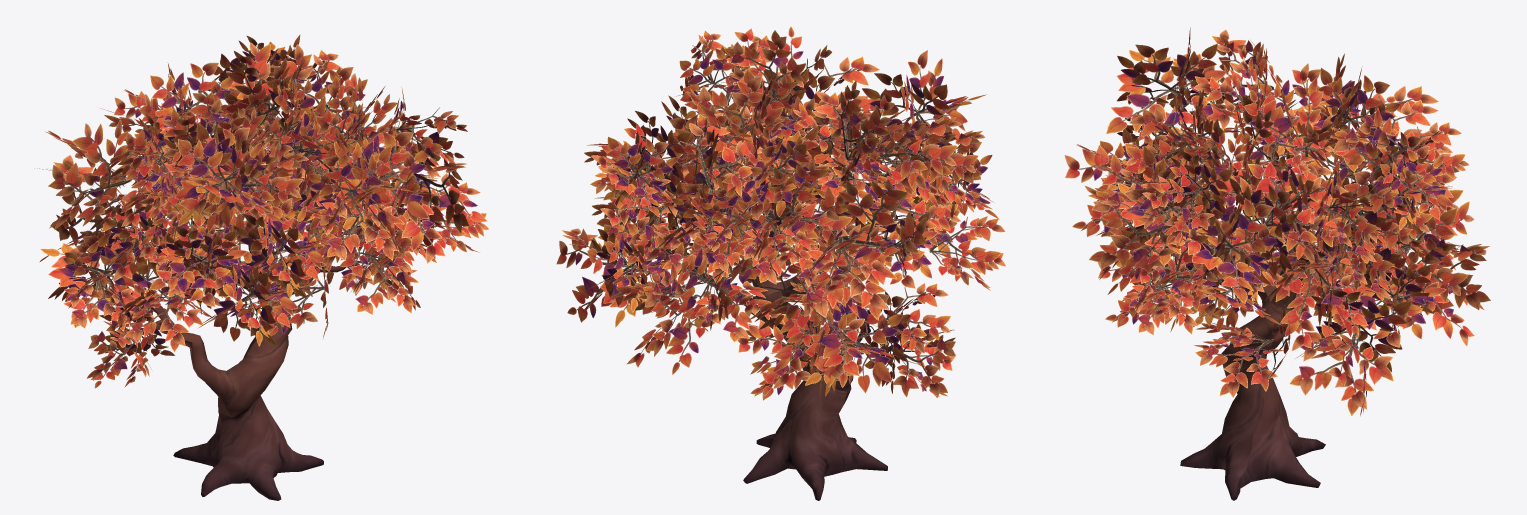
File: Tree1.obj
The picture shows the model from 3 angles, left to right: view 1: azimuth 30°, elevation 25°; view 2: azimuth 150°, elevation 25°; view 3: azimuth 270°, elevation 25°; orthographic projection. The views are drawn at different scales.
Visible parts, largest first — view 1: Tr_01_Stem_autumn_001; view 2: Tr_01_Stem_autumn_001; view 3: Tr_01_Stem_autumn_001.
Boxes of the visible parts, x1,y1,x2,y2 form: Tr_01_Stem_autumn_001: (34, 34, 489, 500); Tr_01_Stem_autumn_001: (556, 26, 1005, 500); Tr_01_Stem_autumn_001: (1064, 27, 1490, 500).
Size of the model in its own units: 84.39 by 83.08 by 80.65.
2 materials, 2 textured.
